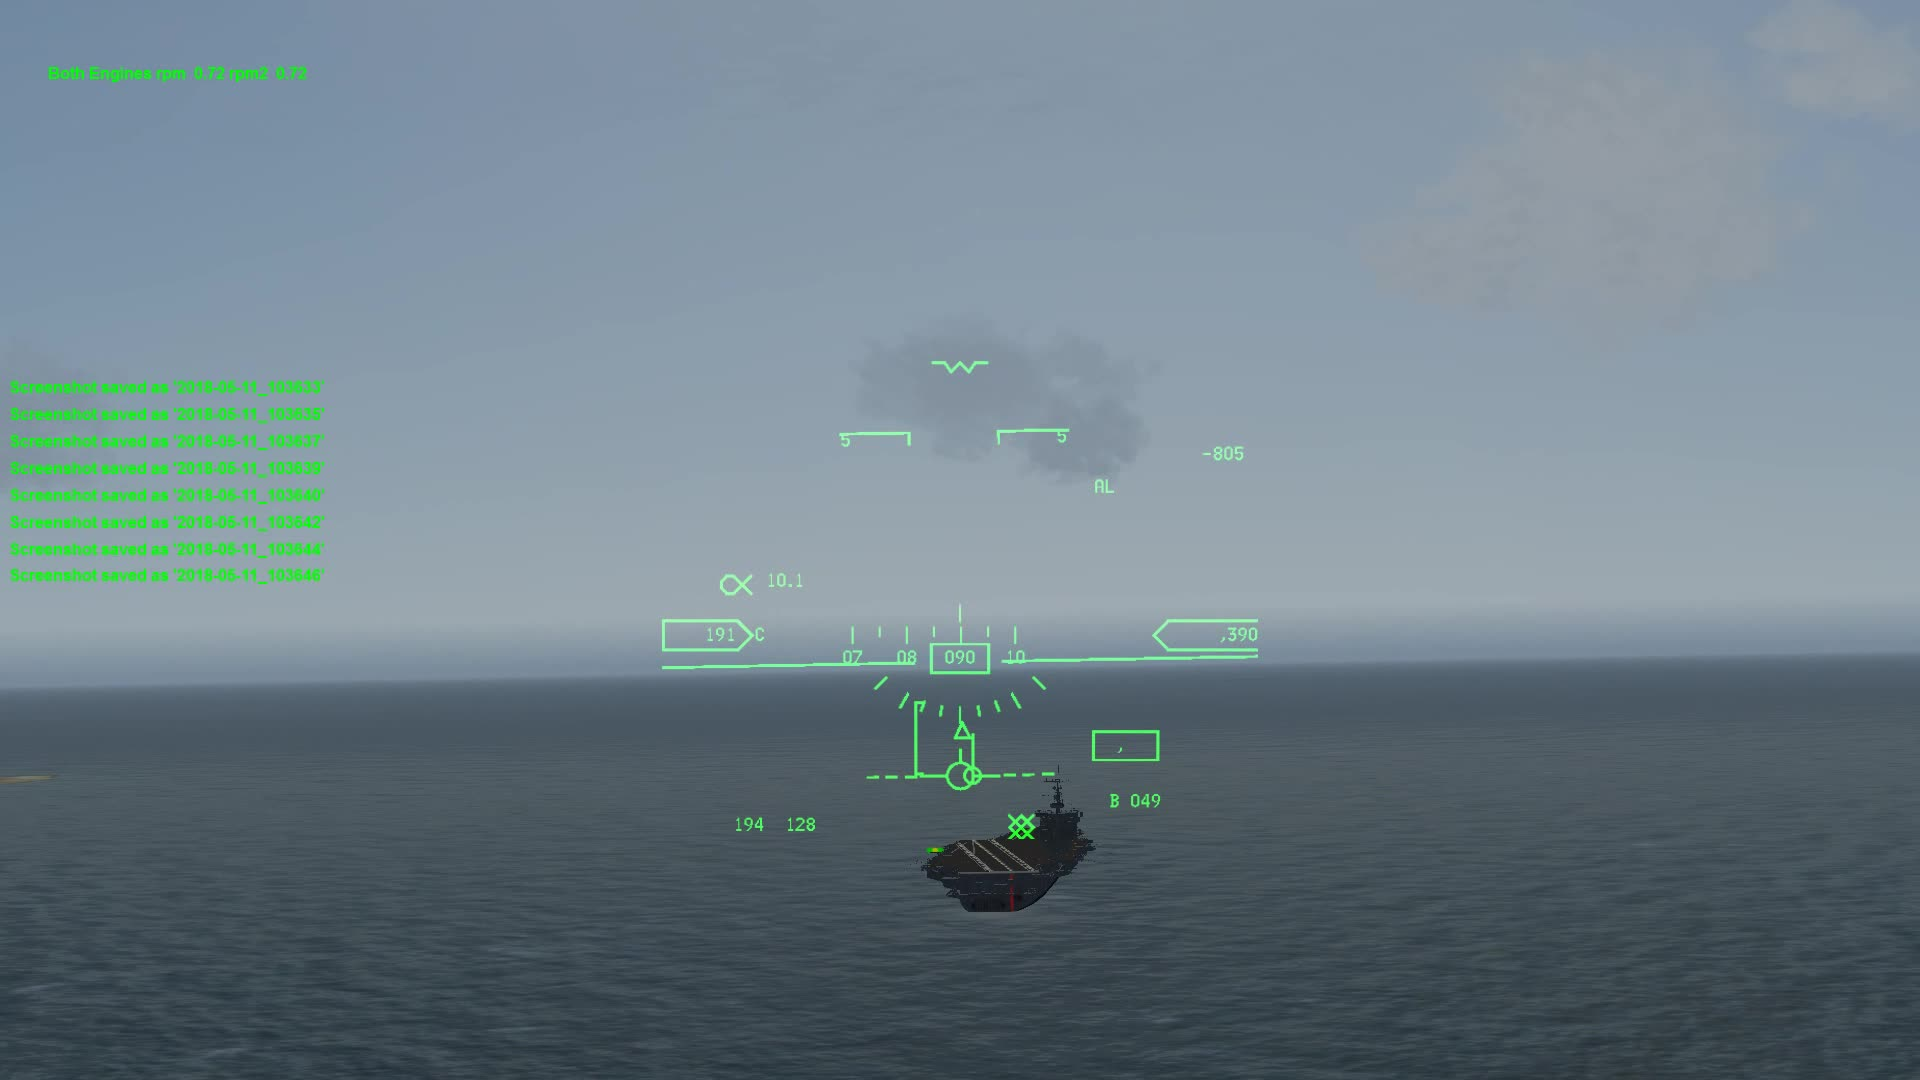speed vector: (922, 746, 997, 796)
